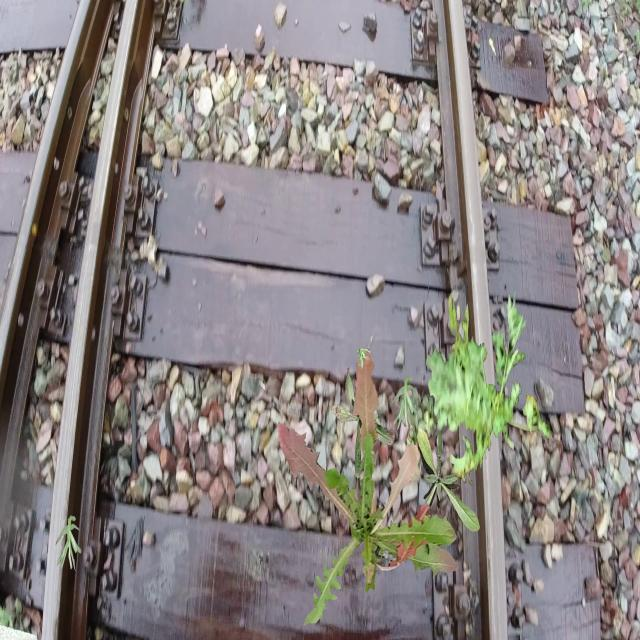Plant: (278, 348, 458, 626), (426, 290, 551, 486), (408, 426, 480, 534), (330, 367, 394, 479), (399, 386, 442, 452), (55, 515, 82, 572), (392, 376, 418, 432), (357, 348, 371, 368)
